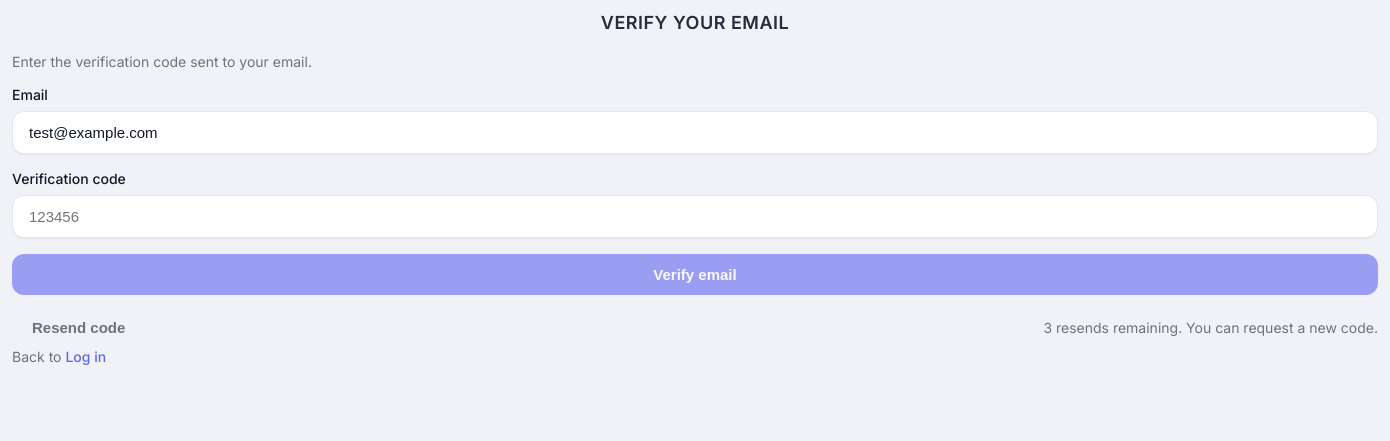
it: VerifyEmail – 2-minute countdown timer › should restart countdown after clicking resend
Click the button "Resend code": (79,328) x1=12 y1=307 x2=145 y2=348
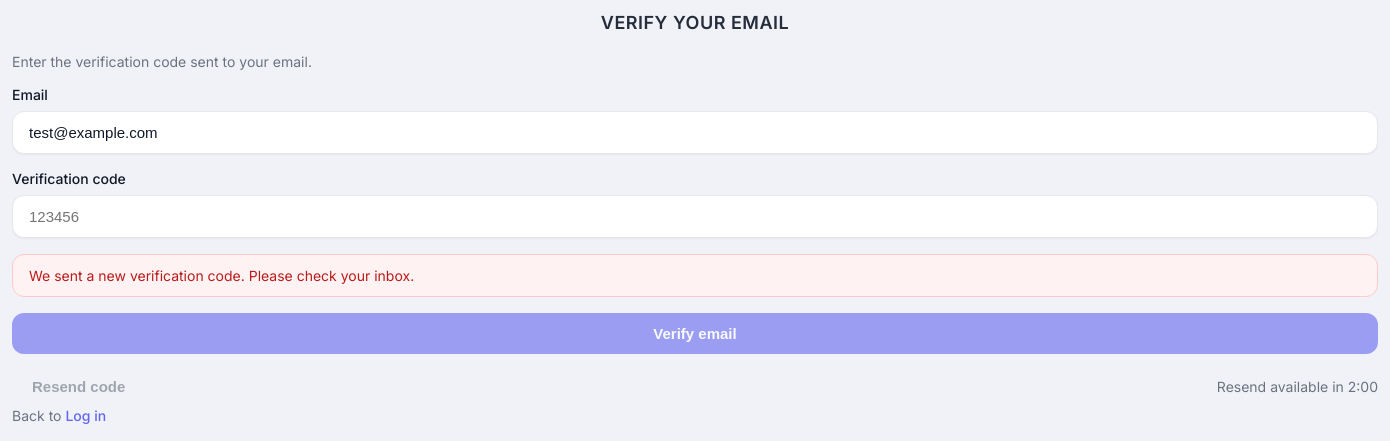
Now the text "Resend available in 2:00" is shown, box x1=1217 y1=378 x2=1378 y2=395
Now the button "Resend code" is disabled, box x1=12 y1=366 x2=145 y2=407
